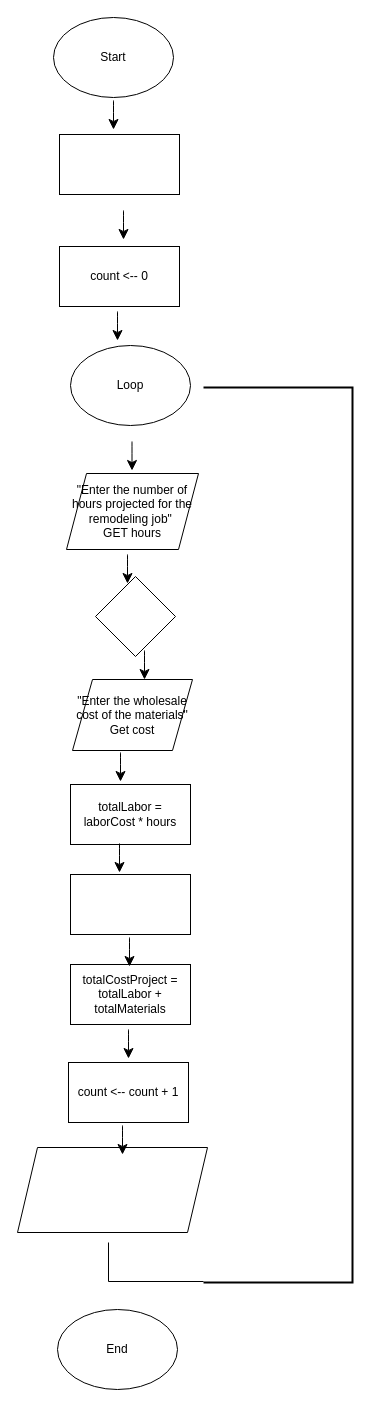
This 371x1407 diagram has some shape labels left out. Each missing label, with the centre of its shape:
"Remodeling job #" + count + "costs a total of $" + totalCostProject: (x=112, y=1189)
hours </= 0: (x=135, y=616)
laborCost - 30: (x=119, y=164)
totalMaterials = cost* 1.20: (x=130, y=904)
